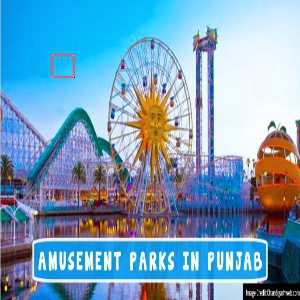square: (49, 53, 77, 80)
